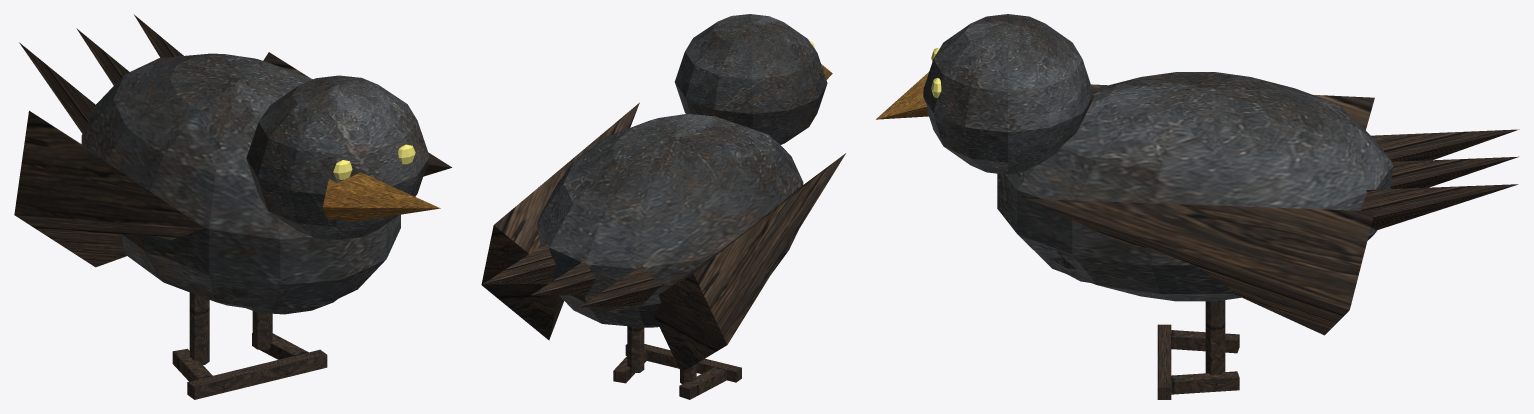
The model's file is field-crow.glb.
3 views of the same model, side by side, from view 1: azimuth 30°, elevation 25°; view 2: azimuth 150°, elevation 25°; view 3: azimuth 270°, elevation 25° (orthographic). The views are drawn at different scales.
Visible parts, largest first — view 1: field-crow_merged_mesh; view 2: field-crow_merged_mesh; view 3: field-crow_merged_mesh.
Boxes of the visible parts, x1=… form: field-crow_merged_mesh: x1=14, y1=14, x2=451, y2=399; field-crow_merged_mesh: x1=481, y1=14, x2=845, y2=399; field-crow_merged_mesh: x1=876, y1=14, x2=1519, y2=399.
Bounding box in the file's own units: 0.8451 × 0.9725 × 1.65.
5 materials, 4 textured.
